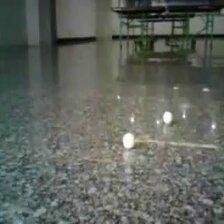w: (122, 132, 138, 149), (162, 110, 174, 124)
